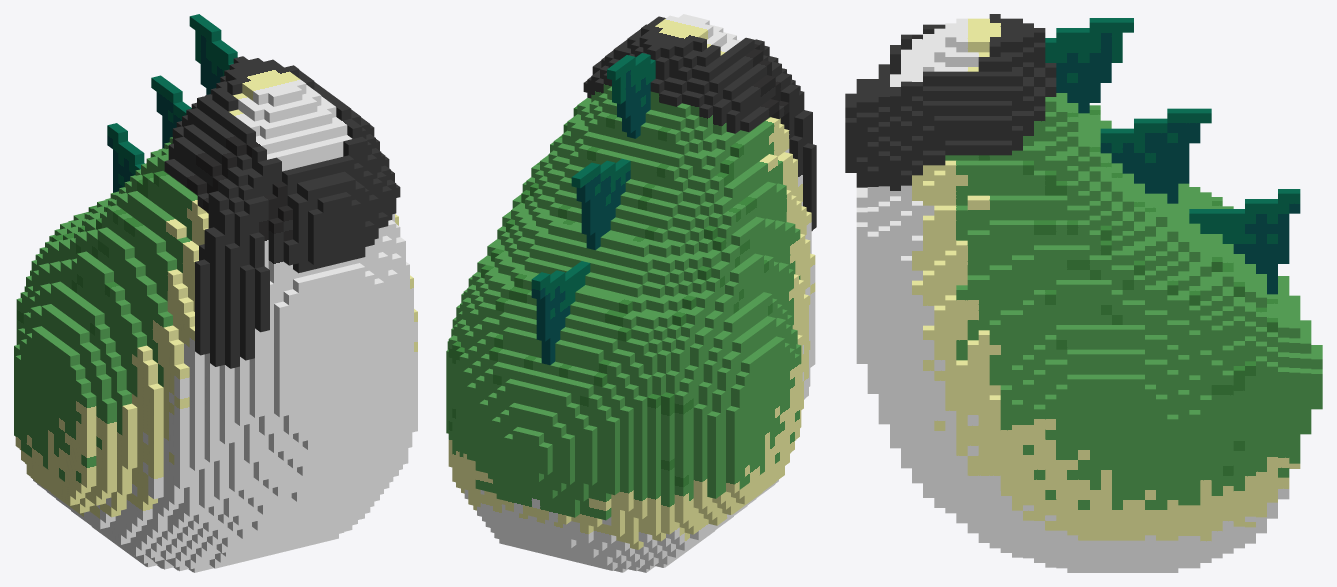
File: black scarf.gltf
3 renders of one model, left to right at view 1: azimuth 30°, elevation 25°; view 2: azimuth 150°, elevation 25°; view 3: azimuth 270°, elevation 25°, orthographic. The views are drawn at different scales.
Parts seen in each view (by area): view 1: 03_Body_BlackScarf-Mesh; view 2: 03_Body_BlackScarf-Mesh; view 3: 03_Body_BlackScarf-Mesh.
Part boxes in pixels (box(x1,y1,x2,y2)): 03_Body_BlackScarf-Mesh: box(14, 14, 417, 572); 03_Body_BlackScarf-Mesh: box(446, 14, 816, 572); 03_Body_BlackScarf-Mesh: box(845, 14, 1322, 572).
Bounding box in the file's own units: 33 × 51 × 43.
1 material, 1 textured.
